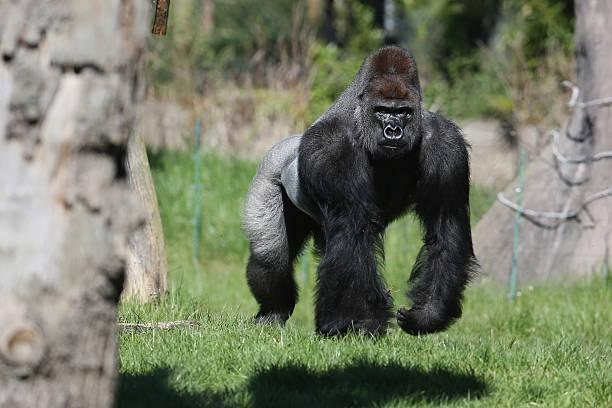goriile_montagne: (216, 5, 513, 385)
